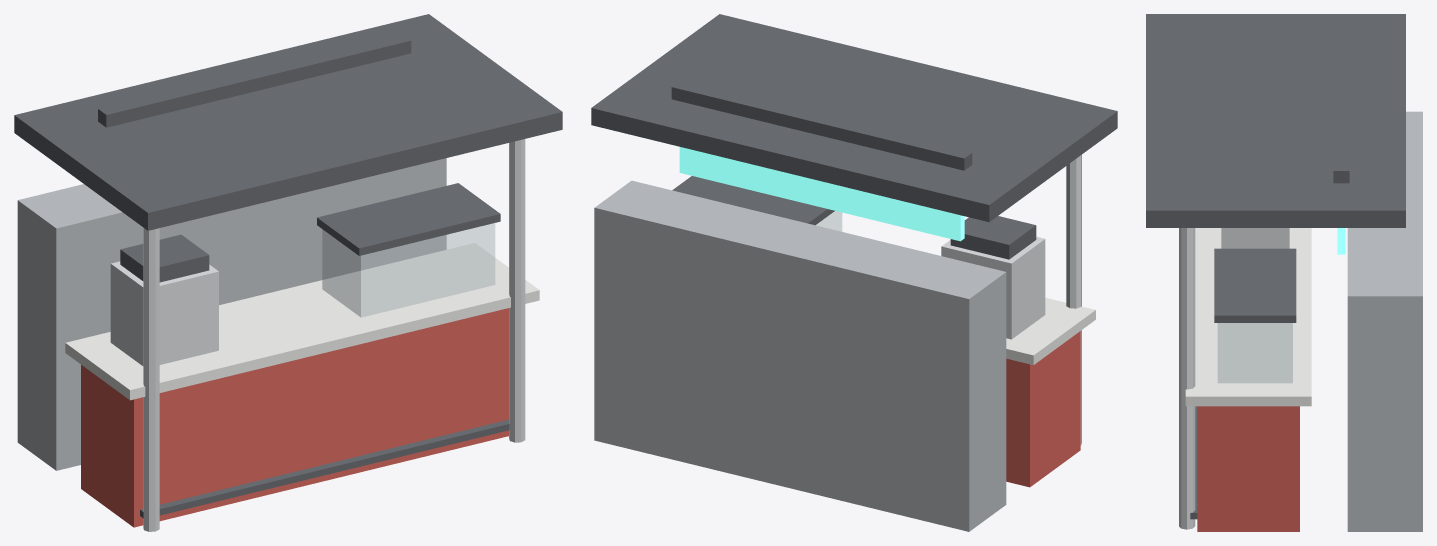
File: ticket_kiosk.glb
3 views of the same model, side by side, from view 1: azimuth 30°, elevation 25°; view 2: azimuth 150°, elevation 25°; view 3: azimuth 270°, elevation 25° (orthographic). The views are drawn at different scales.
Visible parts, largest first — view 1: ferry-terminal-and-harbour-crossing-kiosk-counter; view 2: ferry-terminal-and-harbour-crossing-kiosk-counter; view 3: ferry-terminal-and-harbour-crossing-kiosk-counter.
Boxes of the visible parts, bbox=[...] form: ferry-terminal-and-harbour-crossing-kiosk-counter: bbox=[14, 14, 562, 531]; ferry-terminal-and-harbour-crossing-kiosk-counter: bbox=[591, 14, 1117, 531]; ferry-terminal-and-harbour-crossing-kiosk-counter: bbox=[1146, 14, 1422, 531].
Bounding box in the file's own units: 3.4 × 2.75 × 2.02.
